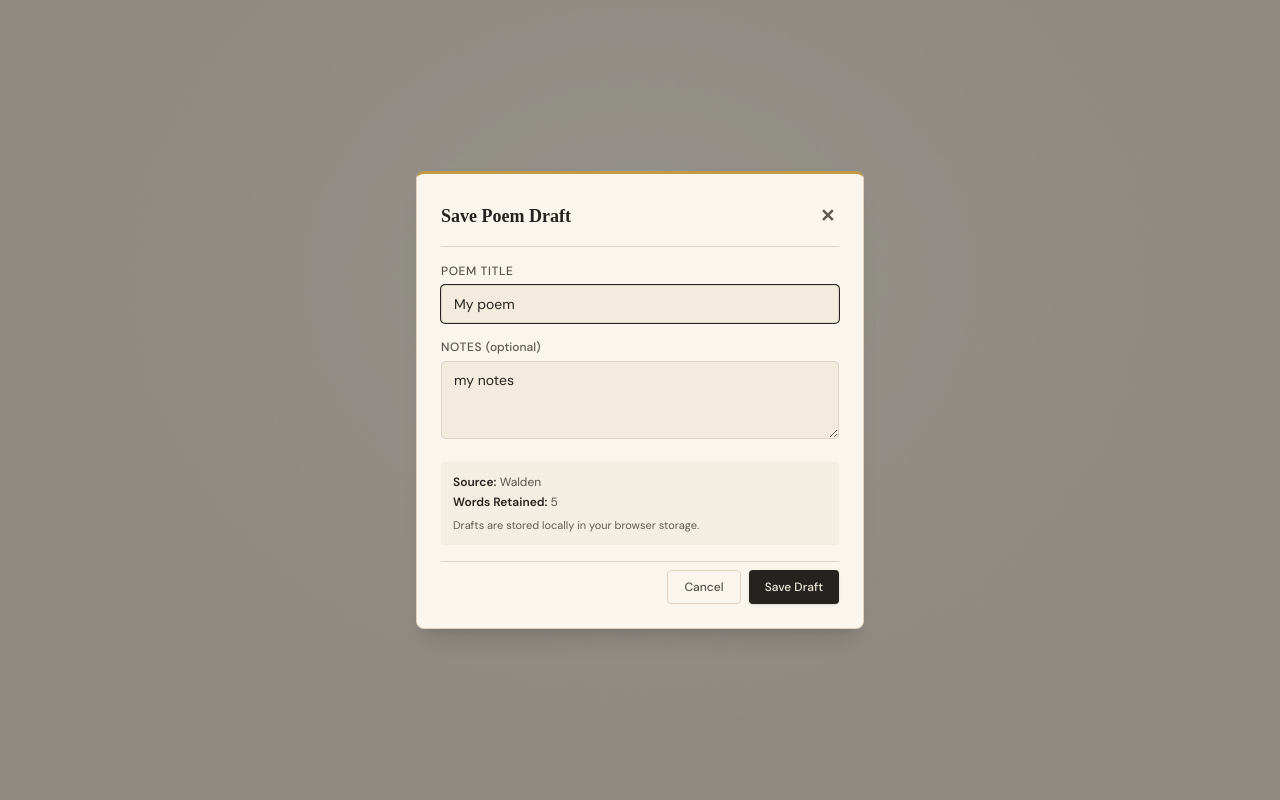
Test: the save form › shows the pop-up for a poem deleted somewhere else, too
Click the button "Save Draft": point(794, 587) [749,570,839,604]
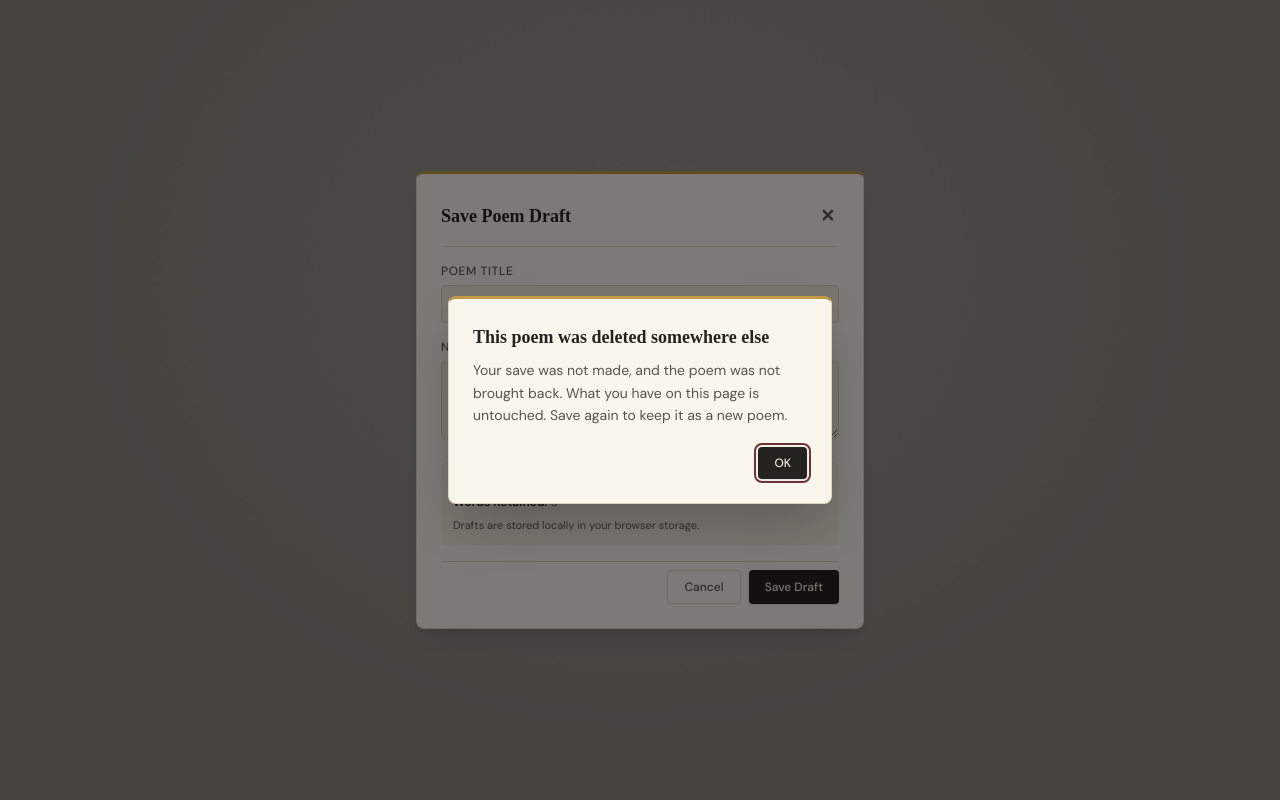
Expected: the heading "This poem was deleted somewhere else" is shown, [473,323,807,351]
